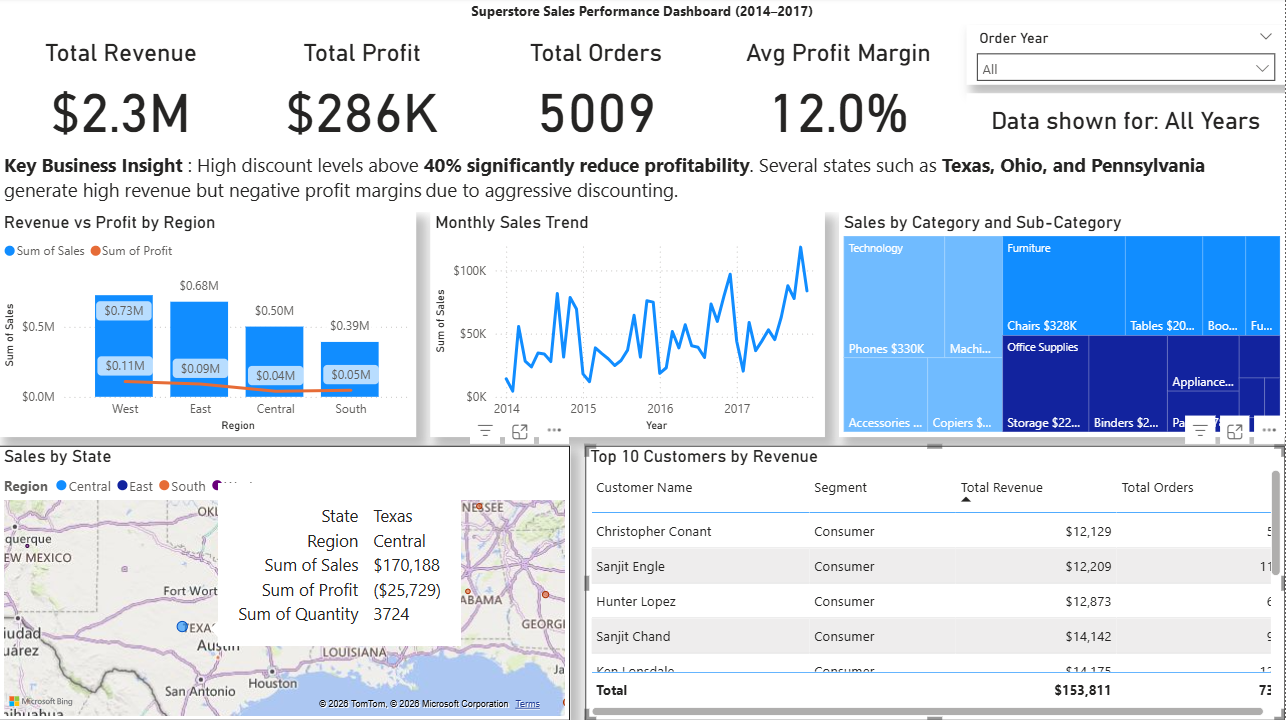

The page's visual inventory and layout, read from the dashboard file:
{"tool":"powerbi","page":{"name":"Page 1","canvas":[1280,720],"ordinal":0},"visuals":[{"type":"card","title":"Total Revenue","fields":{"Values":["Sum(Superstoremysql.Sales)"]},"box":[0,41.1,242.6,108.2],"z":0},{"type":"card","title":"Total Profit","fields":{"Values":["Sum(Superstoremysql.Profit)"]},"box":[242.7,41.1,237.6,108.2],"z":1000},{"type":"card","title":"Total Orders","fields":{"Values":["Count(Superstoremysql.Order ID)"]},"box":[480.3,41.1,227.6,108.2],"z":2000},{"type":"card","title":"Avg Profit Margin","fields":{"Values":["Avg(Superstoremysql.Profit Margin)"]},"box":[707.8,41.1,255,108.2],"z":3000},{"type":"clusteredBarChart","title":"Revenue vs Profit by Region","fields":{"Category":["Superstoremysql.Region"],"Y":["Sum(Superstoremysql.Sales)","Sum(Superstoremysql.Profit)"]},"box":[0,214,415.5,223.9],"z":4000},{"type":"lineChart","title":"Montly Sales Trend","fields":{"Category":["Superstoremysql.Order Date.Variation.Date Hierarchy.Year","Superstoremysql.Order Date.Variation.Date Hierarchy.Month"],"Y":["Sum(Superstoremysql.Sales)"]},"box":[429.2,214,393.1,223.9],"z":5000},{"type":"treemap","title":"Sales by Category and Sub-Category","fields":{"Group":["Superstoremysql.Category"],"Details":["Superstoremysql.Sub-Category"],"Values":["Sum(Superstoremysql.Sales)"]},"box":[835.9,214,444.1,223.9],"z":6000},{"type":"map","title":"Sales by State","fields":{"Category":["Superstoremysql.State"],"Size":["Sum(Superstoremysql.Sales)"],"Series":["Superstoremysql.Region"]},"box":[0,446.6,568.5,273.7],"z":7000},{"type":"tableEx","title":"Top 10 Customers by Revenue ","fields":{"Values":["Superstoremysql.Customer Name","Superstoremysql.Segment","Sum(Superstoremysql.Sales)","Superstoremysql.Order ID"]},"box":[583.4,446.6,696.6,273.7],"z":8000},{"type":"slicer","fields":{"Values":["Superstoremysql.Order Year"]},"box":[962.8,27.4,317.2,59.7],"z":9000},{"type":"textbox","box":[0,0,1280.3,27.4],"z":10000},{"type":"textbox","box":[0,149.3,1280,64.7],"z":11000},{"type":"card","fields":{"Values":["Superstoremysql.Selected Year"]},"box":[962.8,95.8,317.2,53.5],"z":11001}]}

Visuals, with their boxes in screenshot pixels (x1, y1, x2, y2), scaled from the page's 1280x720 canvas onto the 1286x720 screenshot:
"Total Revenue" card: [0, 41, 244, 149]
"Total Profit" card: [244, 41, 483, 149]
"Total Orders" card: [483, 41, 711, 149]
"Avg Profit Margin" card: [711, 41, 967, 149]
"Revenue vs Profit by Region" clusteredBarChart: [0, 214, 417, 438]
"Montly Sales Trend" lineChart: [431, 214, 826, 438]
"Sales by Category and Sub-Category" treemap: [840, 214, 1285, 438]
"Sales by State" map: [0, 447, 571, 719]
"Top 10 Customers by Revenue " tableEx: [586, 447, 1285, 719]
slicer - Superstoremysql.Order Year: [967, 27, 1285, 87]
textbox: [0, 0, 1285, 27]
textbox: [0, 149, 1285, 214]
card - Superstoremysql.Selected Year: [967, 96, 1285, 149]
